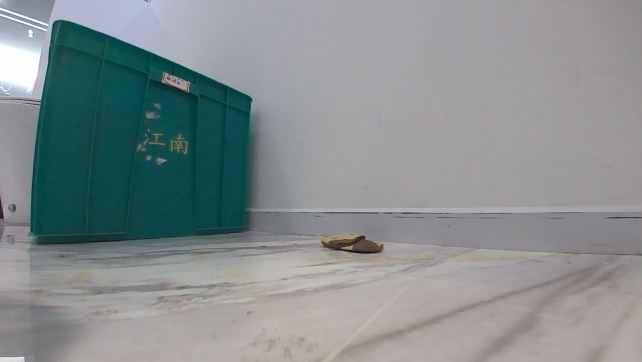socks: (317, 228, 385, 255)
toilet: (0, 91, 40, 230)
